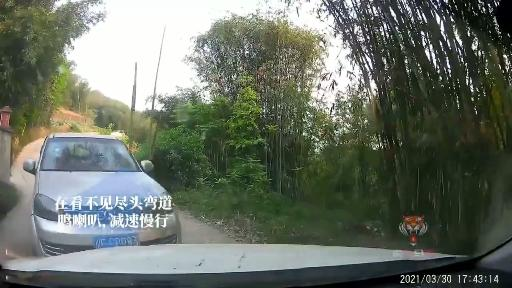Accident: (8, 73, 443, 286)
